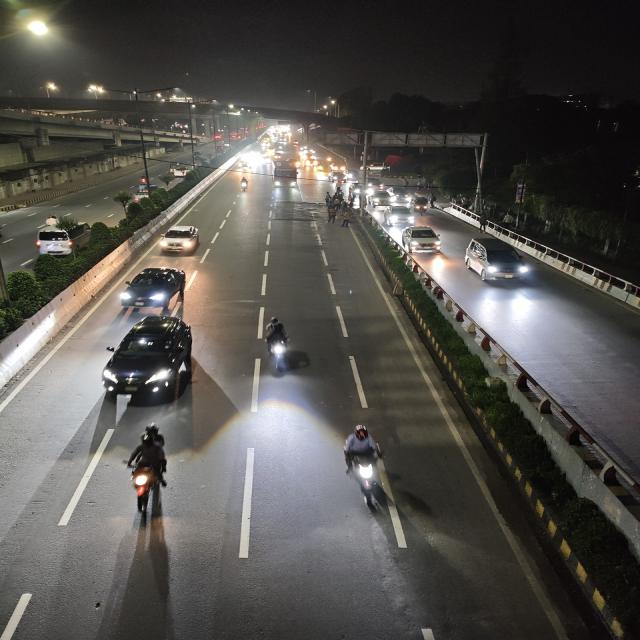bus: (272, 158, 300, 188)
car: (99, 312, 196, 406), (461, 235, 536, 289), (114, 264, 189, 313), (29, 218, 91, 258), (155, 223, 203, 257), (398, 225, 445, 254), (384, 205, 415, 225), (369, 191, 395, 208), (363, 162, 388, 172), (328, 170, 347, 182), (172, 167, 192, 178), (236, 160, 250, 172)
cng: (411, 197, 431, 214)
motorcycle: (338, 422, 397, 512), (123, 421, 172, 523), (259, 313, 298, 375), (136, 172, 153, 186), (238, 176, 251, 192)
pedestrian: (476, 212, 491, 235), (326, 206, 340, 222), (348, 192, 359, 210), (339, 216, 351, 230), (325, 193, 333, 205)
